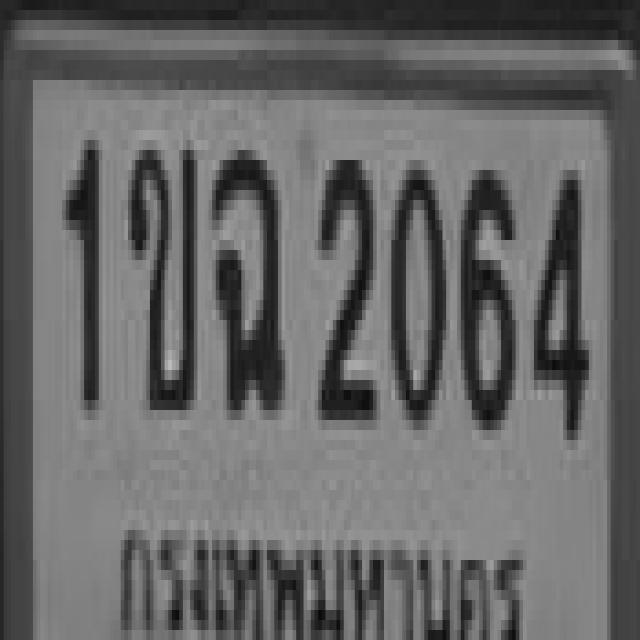0: (388, 150, 442, 420)
1: (62, 130, 95, 400)
11KhorKhai: (124, 130, 194, 400)
18ChorChing: (208, 140, 282, 410)
2: (315, 150, 373, 410)
4: (530, 160, 585, 430)
6: (457, 160, 512, 420)
Bangkok: (114, 500, 530, 640)
